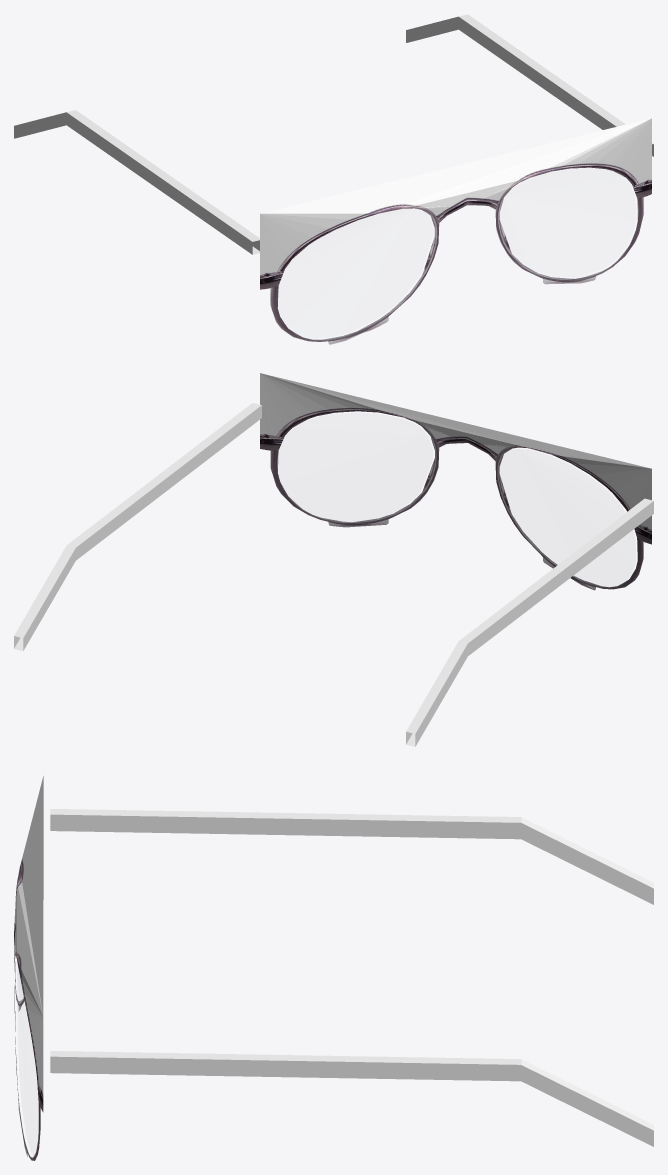
File: gothamstyle-stainless-31_gunmetal.glb
3 views of the same model, one above another, from view 1: azimuth 30°, elevation 25°; view 2: azimuth 150°, elevation 25°; view 3: azimuth 270°, elevation 25° (orthographic). The views are drawn at different scales.
Visible parts, largest first — view 1: frame_front, temple_viewer_left, temple_viewer_right; view 2: frame_front, temple_viewer_left, temple_viewer_right; view 3: temple_viewer_right, temple_viewer_left, frame_front.
Part boxes in pixels (box(x1,y1,x2,y2)): frame_front: box(260, 118, 651, 344); temple_viewer_left: box(14, 110, 259, 254); temple_viewer_right: box(406, 14, 653, 157); frame_front: box(260, 373, 651, 590); temple_viewer_left: box(406, 498, 653, 746); temple_viewer_right: box(14, 403, 261, 650); temple_viewer_right: box(50, 1051, 653, 1146); temple_viewer_left: box(50, 809, 653, 904); frame_front: box(14, 776, 43, 1160).
Size of the model in its own units: 0.1292 by 0.0436 by 0.141.
Materials: 3 (2 with a texture image).
